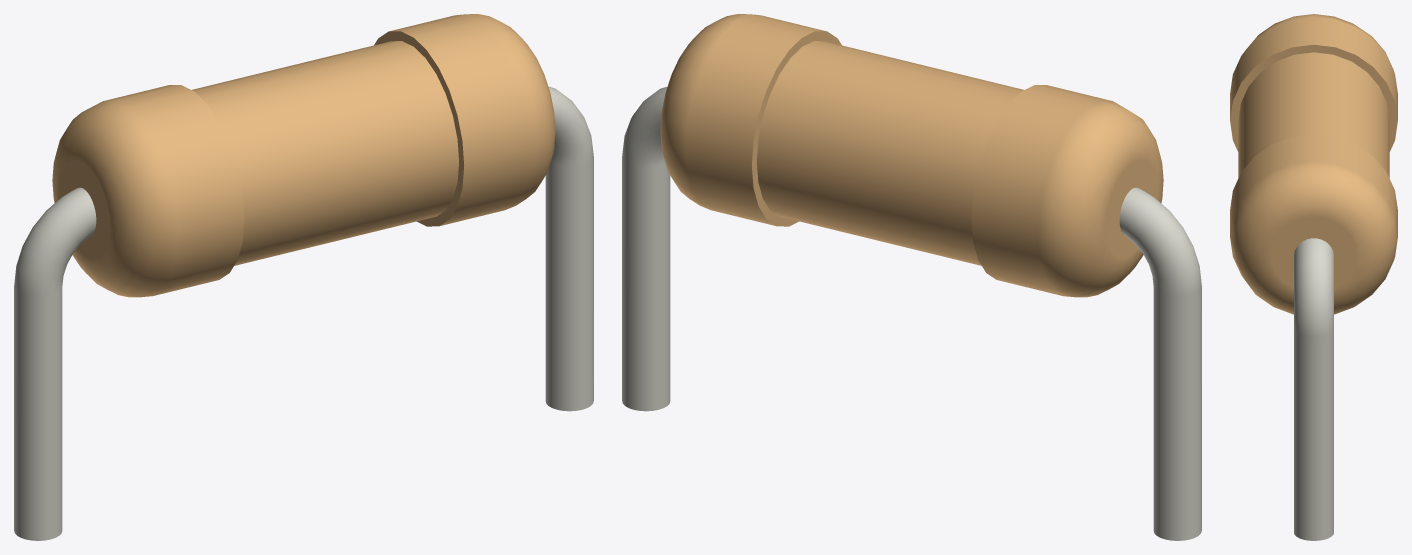
Rendered from R_Axial_DIN0207_L6.3mm_D2.5mm_P7.62mm_Horizontal.glb.
The picture shows the model from 3 angles, left to right: view 1: azimuth 30°, elevation 25°; view 2: azimuth 150°, elevation 25°; view 3: azimuth 270°, elevation 25°; orthographic projection. The views are drawn at different scales.
Visible parts, largest first — view 1: =>[0:1:1:3]; view 2: =>[0:1:1:3]; view 3: =>[0:1:1:3].
Boxes of the visible parts, x1,y1,x2,y2 form: =>[0:1:1:3]: [14, 14, 593, 540]; =>[0:1:1:3]: [622, 14, 1201, 540]; =>[0:1:1:3]: [1230, 14, 1397, 540].
Bounding box in the file's own units: 0.00822 × 0.0055 × 0.0025.
